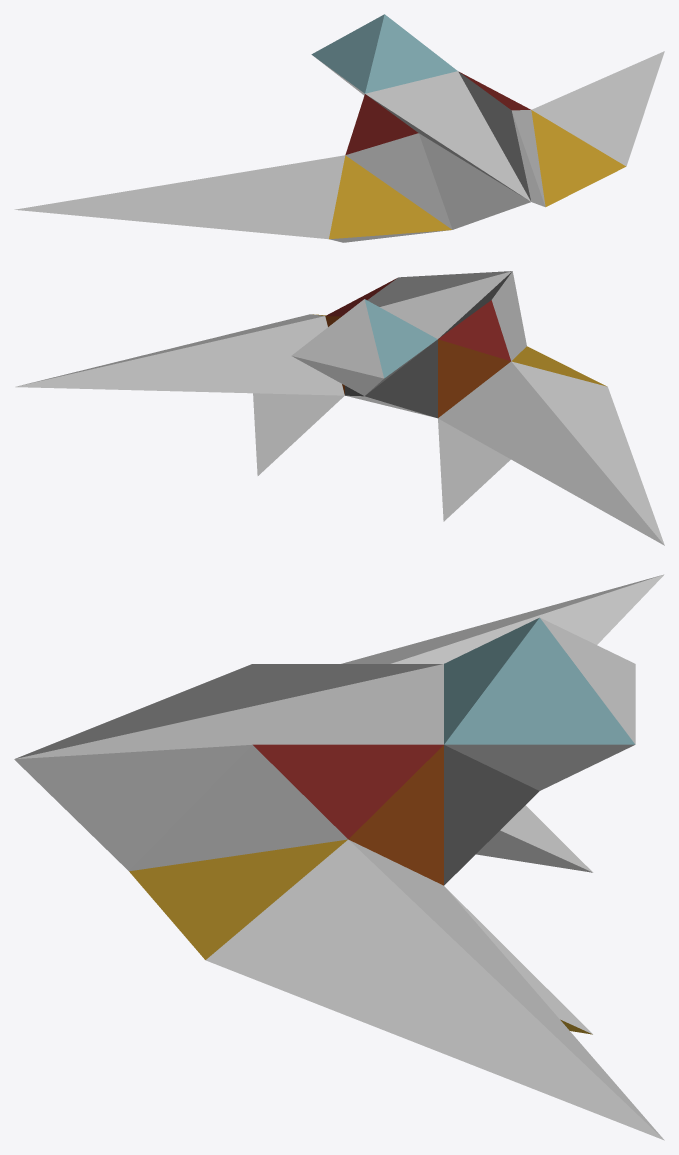
File: Preybird.obj
3 views of the same model, one above another, from view 1: azimuth 30°, elevation 25°; view 2: azimuth 150°, elevation 25°; view 3: azimuth 270°, elevation 25° (orthographic). The views are drawn at different scales.
Parts seen in each view (by area): view 1: Preybird; view 2: Preybird; view 3: Preybird.
Part boxes in pixels (left/top/right/bottom): Preybird: left=14, top=14, right=664, bottom=242; Preybird: left=15, top=271, right=664, bottom=545; Preybird: left=14, top=574, right=664, bottom=1140.
Bounding box in the file's own units: 3.5 × 0.9716 × 1.7.
